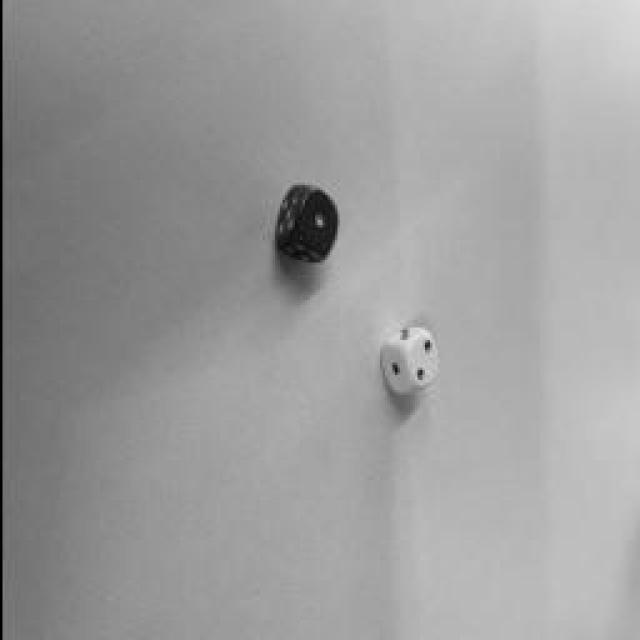dice_1: (296, 190, 336, 250)
dice_2: (405, 332, 435, 388)
